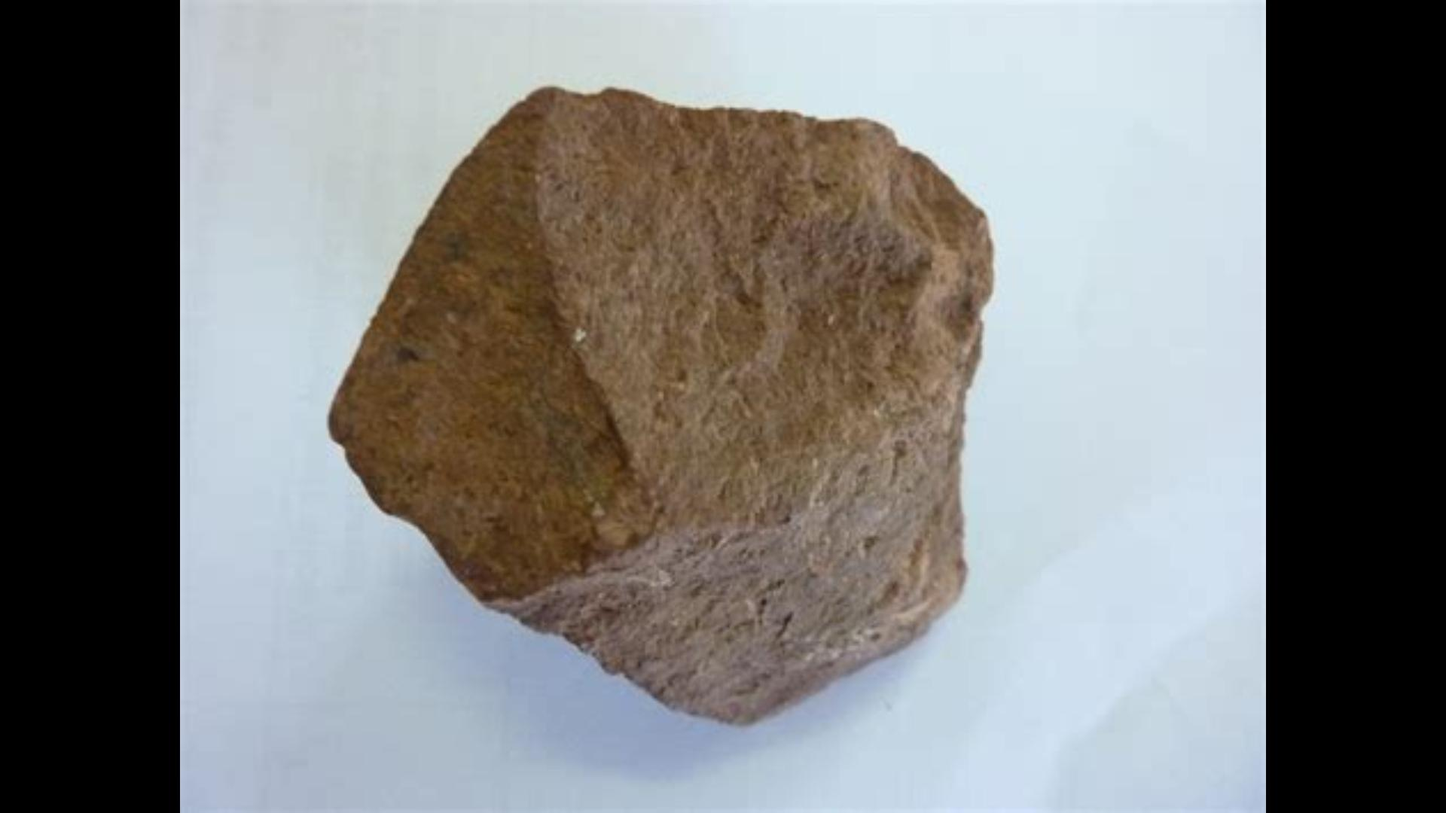rock: (329, 89, 989, 717)
